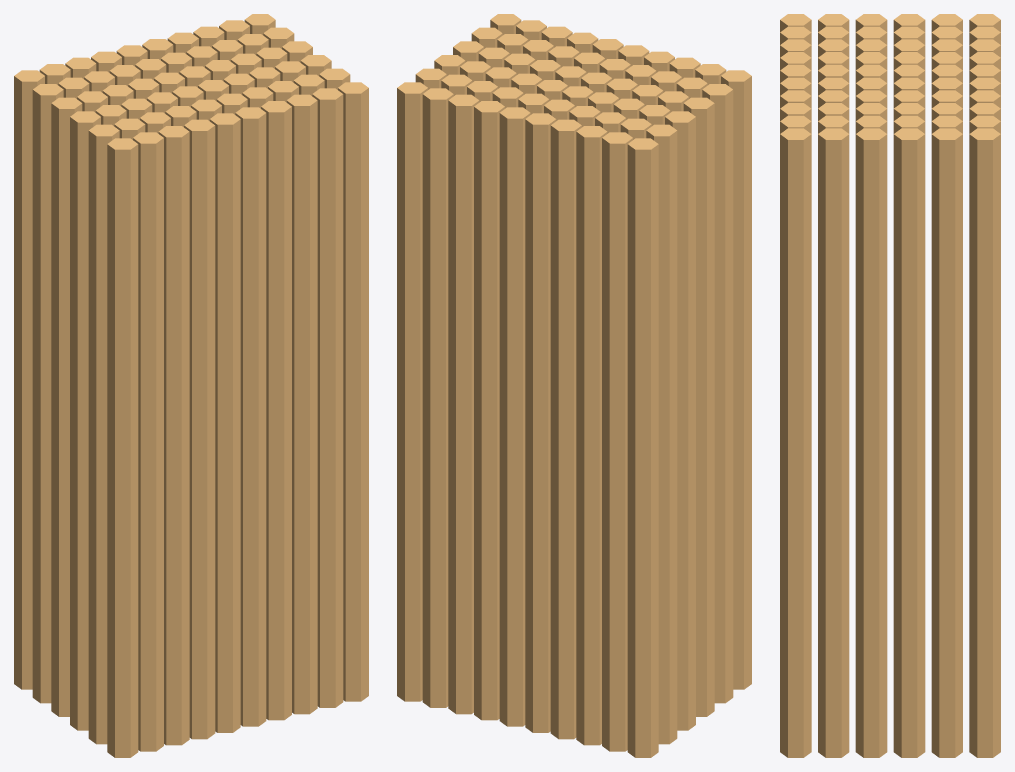
Rendered from spaghetti.glb.
3 views of the same model, side by side, from view 1: azimuth 30°, elevation 25°; view 2: azimuth 150°, elevation 25°; view 3: azimuth 270°, elevation 25° (orthographic).
Parts seen in each view (by area): view 1: Cylinder; view 2: Cylinder; view 3: Cylinder.
Part boxes in pixels (x1=…): Cylinder: x1=14, y1=14, x2=368, y2=757; Cylinder: x1=397, y1=14, x2=751, y2=757; Cylinder: x1=780, y1=14, x2=1000, y2=757.
Bounding box in the file's own units: 0.1068 × 0.2444 × 0.0792.
